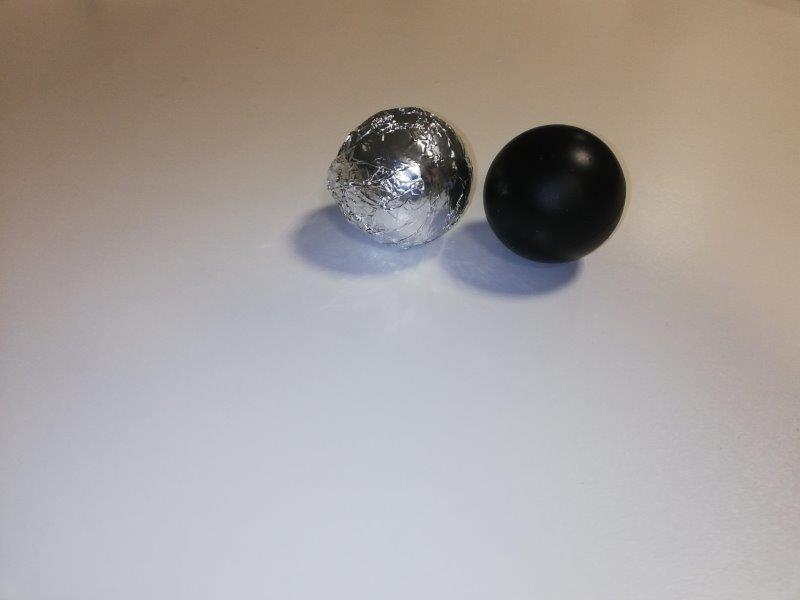bianca: (333, 106, 473, 247)
nera: (483, 126, 624, 262)
